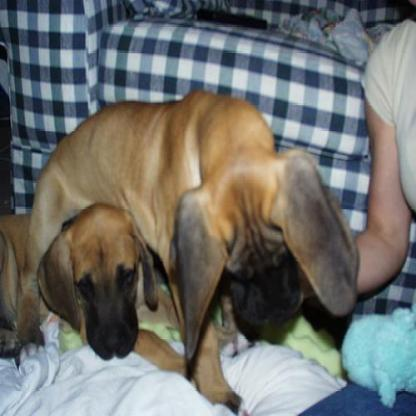Great_Dane: (14, 89, 362, 413), (0, 199, 236, 376)
